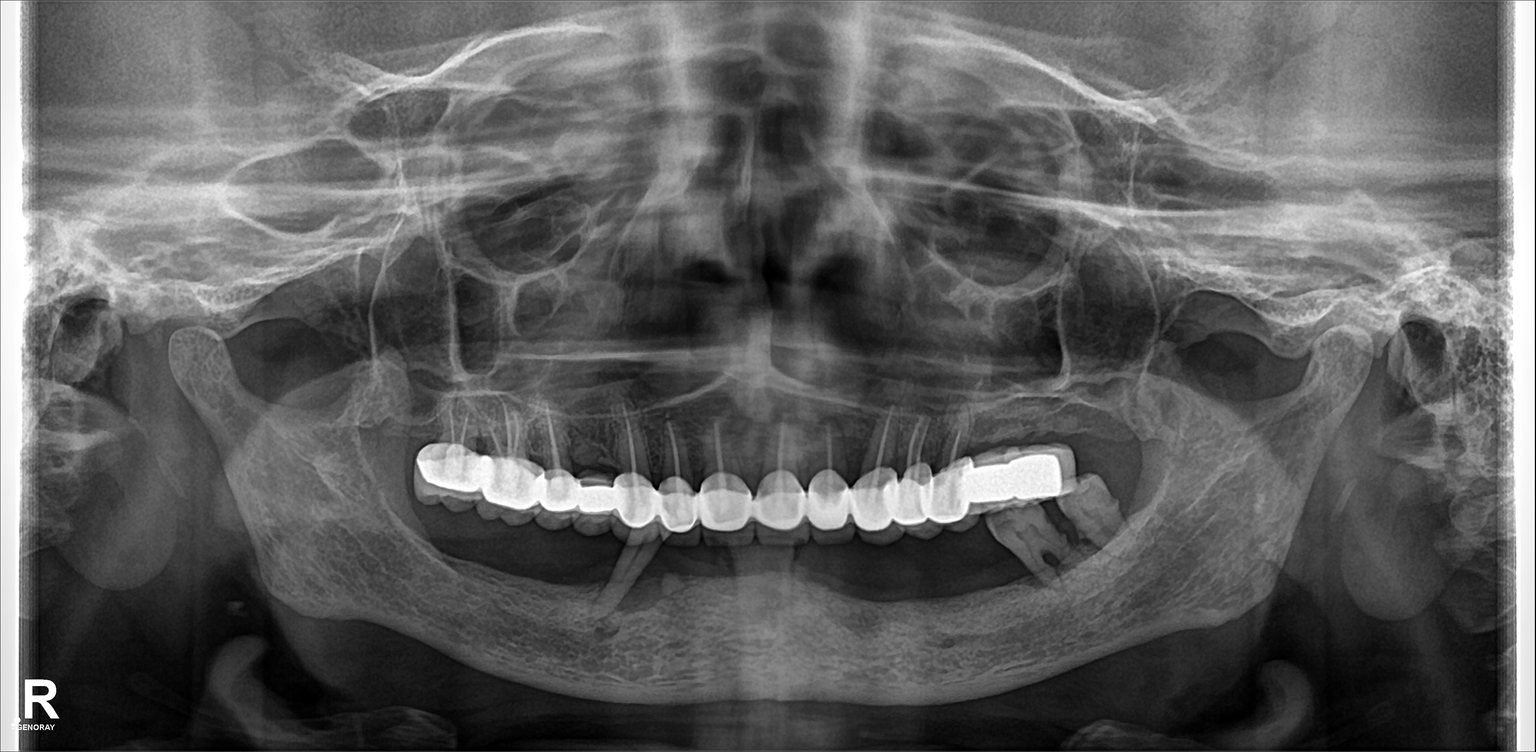Endodontically Treated Tooth: (527, 411, 580, 515), (700, 424, 745, 529), (425, 408, 477, 498), (855, 406, 891, 530), (762, 424, 805, 527), (488, 404, 530, 509), (663, 413, 699, 532), (613, 415, 651, 518), (894, 410, 928, 524), (812, 423, 845, 533), (937, 423, 962, 517)
Missing Tooth: (764, 566, 818, 639), (484, 530, 530, 606), (933, 557, 973, 624), (1076, 404, 1117, 465), (879, 560, 913, 631), (439, 519, 477, 581), (672, 564, 705, 633), (534, 544, 565, 614), (821, 566, 854, 630), (723, 566, 749, 639), (577, 545, 600, 612), (641, 562, 661, 629)
